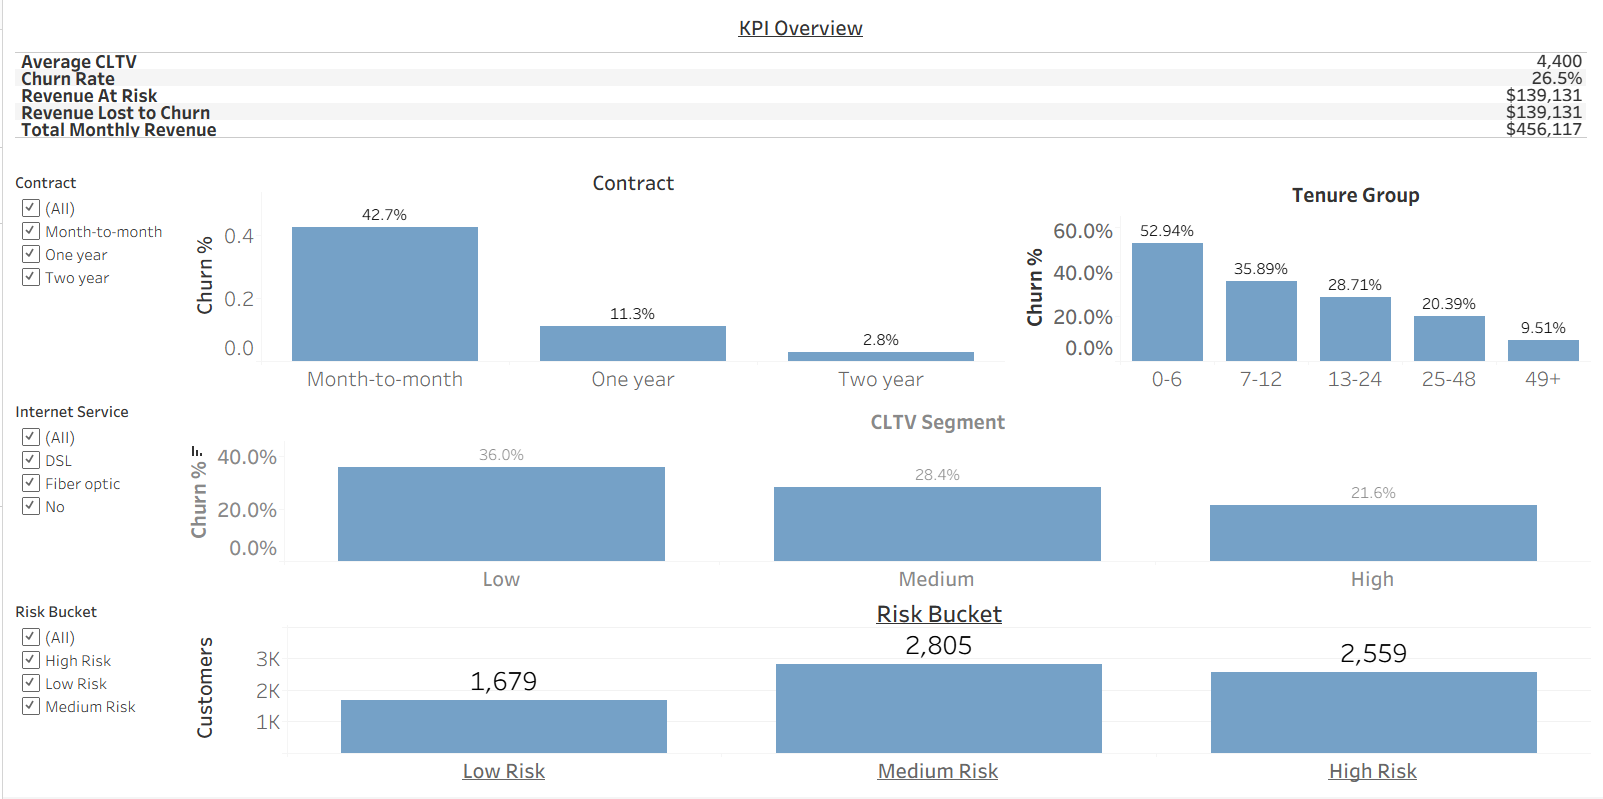

This screenshot's page, from the dashboard's own definition file:
{"tool":"tableau","page":{"name":"Dashboard Executive Overview","canvas":[1600,800],"ordinal":1},"visuals":[{"type":"worksheet","title":"KPI Overview","mark":"Automatic","box":[8,8,1584,137]},{"type":"text","box":[8,156,1584,44]},{"type":"filter","title":"Churn By Contract ","param":"[federated.069xpdd0oa2ae711o6uby123b1ii].[none:Contract:nk]","box":[8,200,168,200]},{"type":"worksheet","title":"Churn By Contract ","mark":"Automatic","rows":["ChurnFlag"],"cols":["Contract"],"box":[176,200,830,200]},{"type":"worksheet","title":"Churn By Tenure Group","mark":"Automatic","rows":["ChurnFlag"],"cols":["TenureGroup"],"box":[1006,200,586,200]},{"type":"filter","title":"Churn By Contract ","param":"[federated.069xpdd0oa2ae711o6uby123b1ii].[none:Internet Service:nk]","box":[8,400,162.3,128]},{"type":"worksheet","title":"CLTV Segment Vs Churn","mark":"Automatic","rows":["ChurnFlag"],"cols":["CLTV_Segment"],"box":[170.3,400,1421.7,200]},{"type":"filter","title":"Churn By Contract ","param":"[federated.069xpdd0oa2ae711o6uby123b1ii].[none:RiskBucket:nk]","box":[8,600,168,192]},{"type":"worksheet","title":"Risk Bucket Distribution ","mark":"Automatic","rows":["Calculation_1254832772141061"],"cols":["RiskBucket"],"box":[176,600,1416,192]}]}

Visuals, with their boxes in screenshot pixels (x1, y1, x2, y2), scaled from the page's 1600x800 canvas onto the 1603x799 screenshot:
"KPI Overview" worksheet: 8 8 1595 145
text: 8 156 1595 200
"Churn By Contract " filter: 8 200 176 400
"Churn By Contract " worksheet: 176 200 1008 400
"Churn By Tenure Group" worksheet: 1008 200 1595 400
"Churn By Contract " filter: 8 400 171 527
"CLTV Segment Vs Churn" worksheet: 171 400 1595 599
"Churn By Contract " filter: 8 599 176 791
"Risk Bucket Distribution " worksheet: 176 599 1595 791
